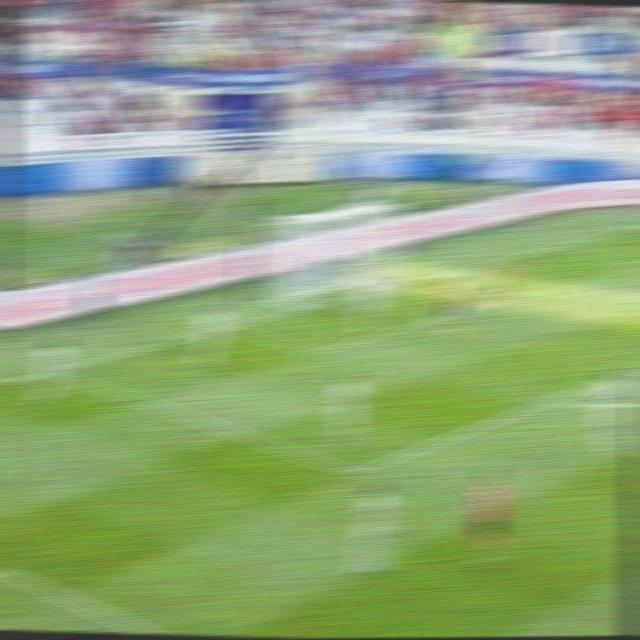bigarea_bottom_inner: (337, 459, 368, 484)
bigarea_top_outter: (541, 234, 575, 257)
bottom_arc_area_intersection: (530, 389, 566, 413)
smallarea_bottom_inner: (302, 342, 330, 360)
smallarea_bottom_outter: (215, 317, 247, 337)
smallarea_top_inner: (508, 280, 552, 303)
smallarea_top_outter: (438, 268, 466, 280)
